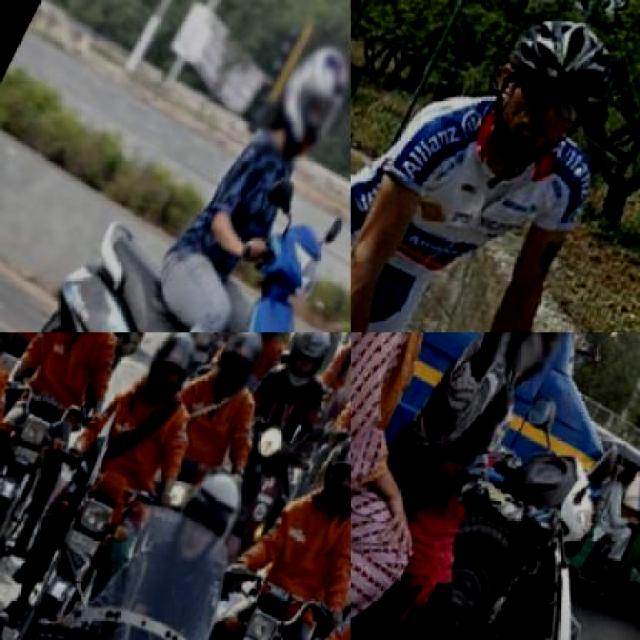With Helmet: (450, 0, 635, 195), (249, 25, 349, 182), (152, 458, 255, 582), (127, 332, 210, 414), (263, 332, 349, 406), (297, 411, 349, 523), (202, 332, 276, 408), (248, 332, 300, 346)
Without Helmet: (474, 332, 588, 391)
